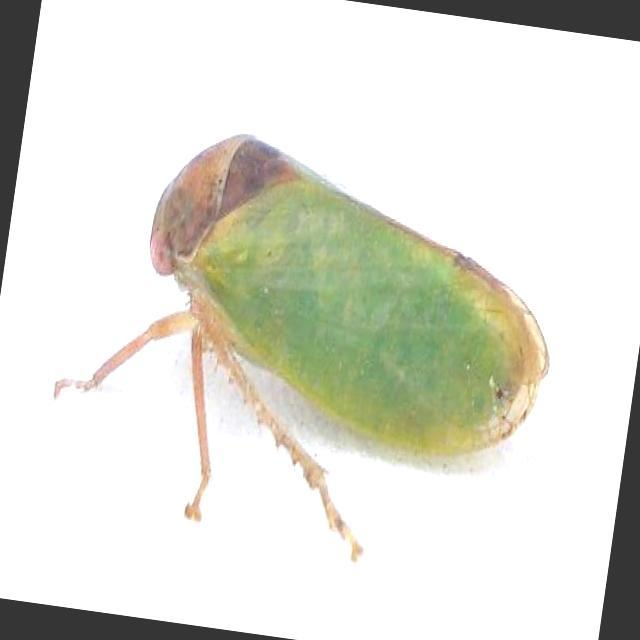green leaf hopper: (54, 133, 549, 561)
